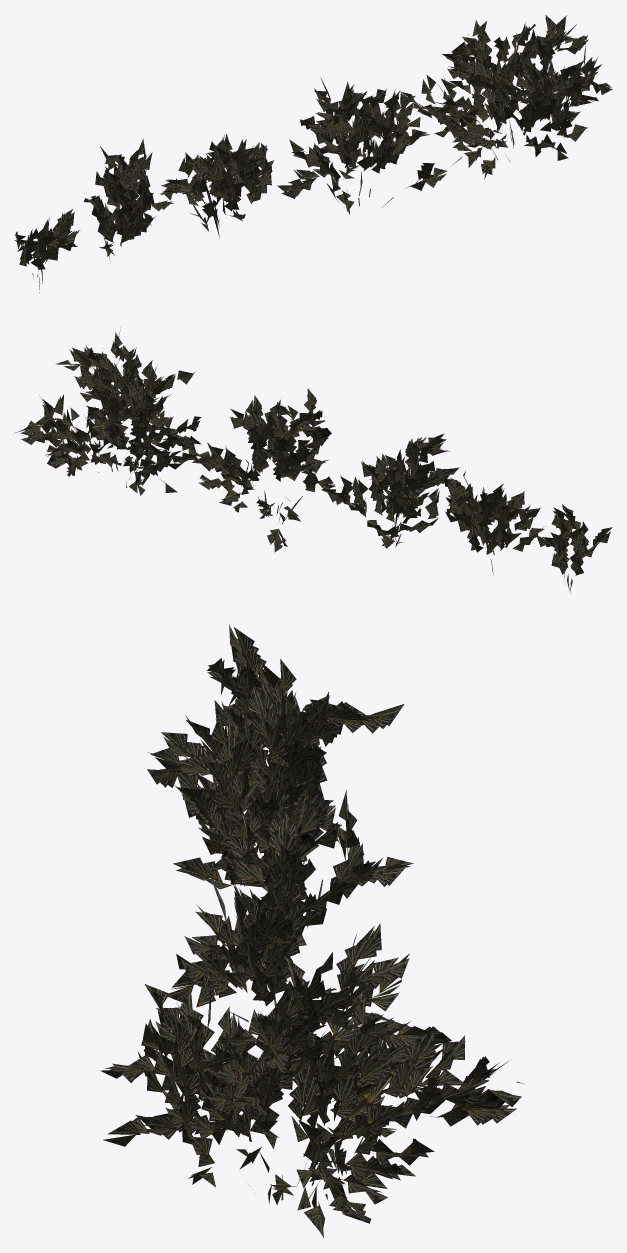
The model's file is wild_rooibos_bush.glb.
3 views of the same model, one above another, from view 1: azimuth 30°, elevation 25°; view 2: azimuth 150°, elevation 25°; view 3: azimuth 270°, elevation 25° (orthographic). The views are drawn at different scales.
Parts seen in each view (by area): view 1: wild_rooibos_bush_a; view 2: wild_rooibos_bush_a; view 3: wild_rooibos_bush_a.
Part boxes in pixels (box(x1,y1,x2,y2)): wild_rooibos_bush_a: box(14, 15, 612, 292); wild_rooibos_bush_a: box(14, 327, 612, 593); wild_rooibos_bush_a: box(100, 624, 524, 1237).
Bounding box in the file's own units: 2.27 × 0.5312 × 0.7443.
2 materials, 2 textured.
